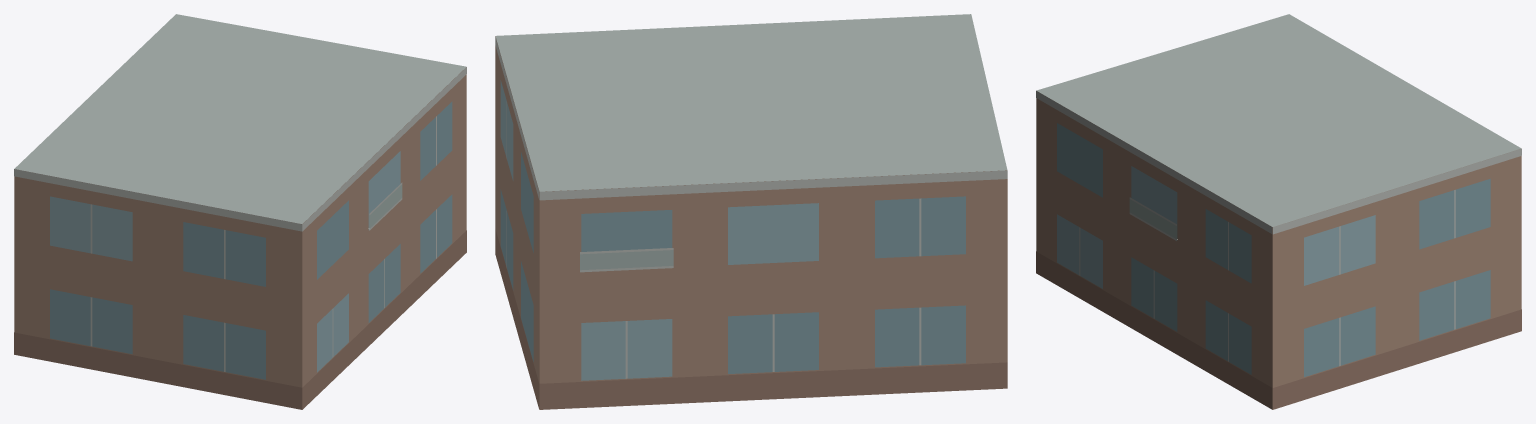
The model's file is survey-upis-32716718.glb.
3 renders of one model, left to right at view 1: azimuth 30°, elevation 25°; view 2: azimuth 150°, elevation 25°; view 3: azimuth 270°, elevation 25°, orthographic. The views are drawn at different scales.
Visible parts, largest first — view 1: survey-upis-32716718.tmp; view 2: survey-upis-32716718.tmp; view 3: survey-upis-32716718.tmp.
Part boxes in pixels (<box>): survey-upis-32716718.tmp: <box>14,14,466,409</box>; survey-upis-32716718.tmp: <box>495,14,1007,409</box>; survey-upis-32716718.tmp: <box>1036,14,1521,409</box>.
Bounding box in the file's own units: 15.28 × 6.1 × 14.71.
